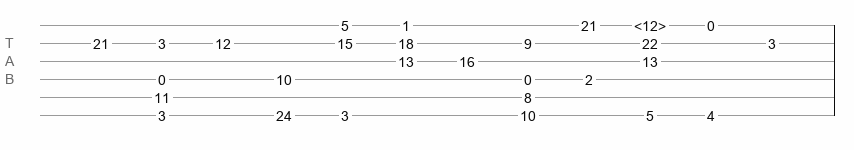0: (158, 72, 166, 82), (524, 72, 532, 82), (707, 18, 715, 28)
1: (402, 18, 410, 28)
10: (276, 72, 292, 82), (520, 108, 536, 118)
11: (154, 90, 170, 100)
12: (215, 36, 231, 46)
13: (398, 54, 414, 64), (642, 54, 658, 64)
15: (337, 36, 353, 46)
16: (459, 54, 475, 64)
18: (398, 36, 414, 46)
2: (585, 72, 593, 82)
21: (93, 36, 109, 46), (581, 18, 597, 28)
22: (642, 36, 658, 46)
24: (276, 108, 292, 118)
3: (158, 108, 166, 118), (158, 36, 166, 46), (341, 108, 349, 118), (768, 36, 776, 46)
4: (707, 108, 715, 118)
5: (341, 18, 349, 28), (646, 108, 654, 118)
8: (524, 90, 532, 100)
9: (524, 36, 532, 46)
harmonic: (634, 18, 666, 28)
